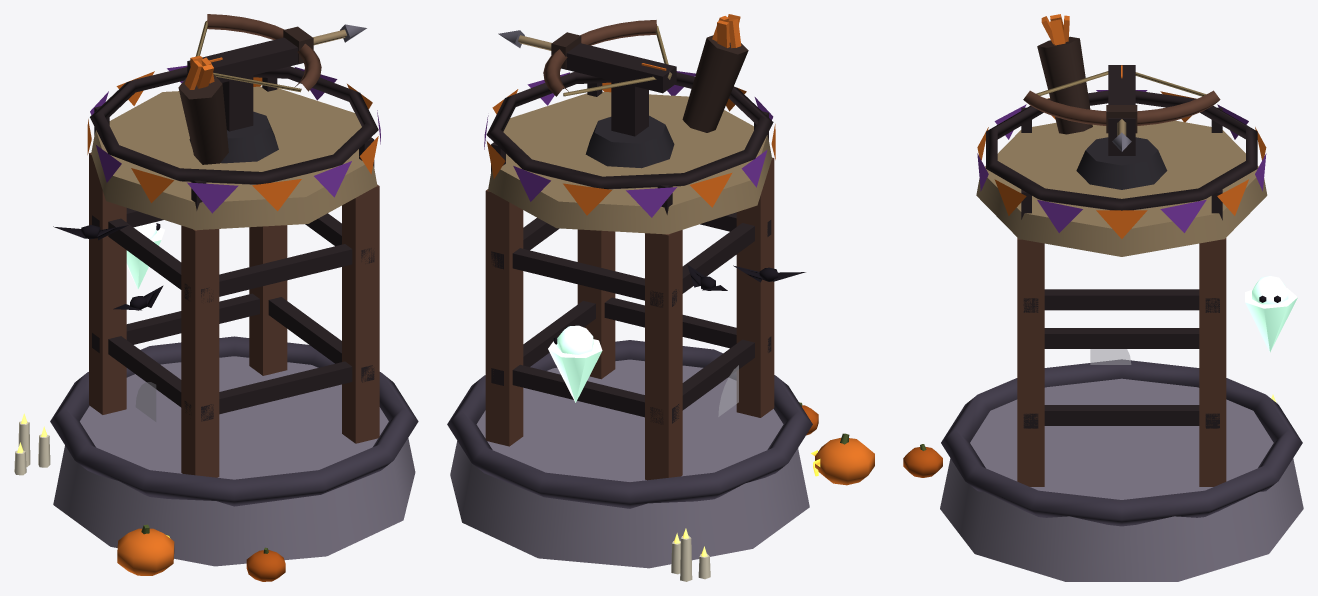
Rendered from tower_archer.glb.
3 renders of one model, left to right at view 1: azimuth 30°, elevation 25°; view 2: azimuth 150°, elevation 25°; view 3: azimuth 270°, elevation 25°, orthographic.
Visible parts, largest first — view 1: base, deck, base_rim, post_wn, post_en, post_ws, rail, deco_hw_bunting, post_es, beam_x_1_n, quiver, beam_x_0_n (+14 smaller); view 2: base, deck, base_rim, post_ws, post_es, post_wn, rail, deco_hw_bunting, quiver, post_en, swivel, beam_x_1_s (+14 smaller); view 3: base, deck, base_rim, rail, post_es, post_en, deco_hw_bunting, beam_z_1_e, beam_z_0_e, beam_z_0_w, swivel, quiver (+7 smaller).
Boxes of the visible parts, x1,y1,x2,y2 form: base: [53, 356, 415, 566]; deck: [91, 86, 377, 230]; base_rim: [50, 336, 418, 506]; post_wn: [181, 225, 219, 477]; post_en: [342, 184, 379, 443]; post_ws: [89, 153, 126, 414]; rail: [90, 66, 378, 184]; deco_hw_bunting: [87, 65, 380, 213]; post_es: [249, 225, 287, 375]; beam_x_1_n: [184, 244, 352, 300]; quiver: [178, 74, 228, 164]; beam_x_0_n: [184, 361, 352, 414]; base: [450, 359, 809, 568]; deck: [488, 91, 771, 234]; base_rim: [447, 340, 812, 508]; post_ws: [645, 230, 682, 480]; post_es: [485, 189, 523, 446]; post_wn: [736, 157, 774, 417]; rail: [486, 72, 773, 189]; deco_hw_bunting: [484, 71, 775, 217]; quiver: [682, 35, 748, 132]; post_en: [577, 229, 615, 379]; swivel: [585, 115, 674, 168]; beam_x_1_s: [512, 248, 677, 306]; base: [940, 378, 1303, 581]; deck: [976, 120, 1267, 256]; base_rim: [941, 359, 1302, 526]; rail: [986, 90, 1257, 210]; post_es: [1199, 238, 1226, 486]; post_en: [1017, 238, 1044, 486]; deco_hw_bunting: [977, 90, 1266, 238]; beam_z_1_e: [1044, 289, 1199, 310]; beam_z_0_e: [1044, 405, 1199, 425]; beam_z_0_w: [1044, 328, 1199, 348]; swivel: [1076, 137, 1167, 189]; quiver: [1037, 36, 1092, 134].
Bounding box in the file's own units: 0.4215 × 0.5582 × 0.4404.
